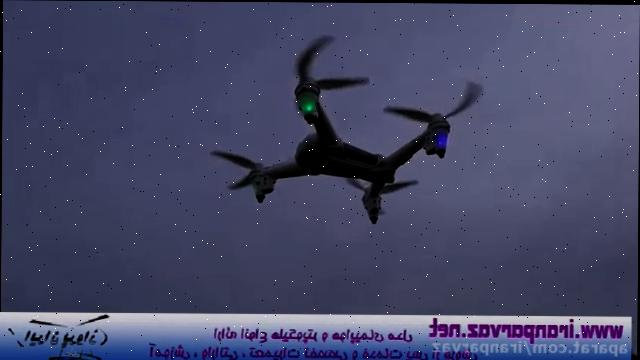drone: (198, 26, 493, 234)
